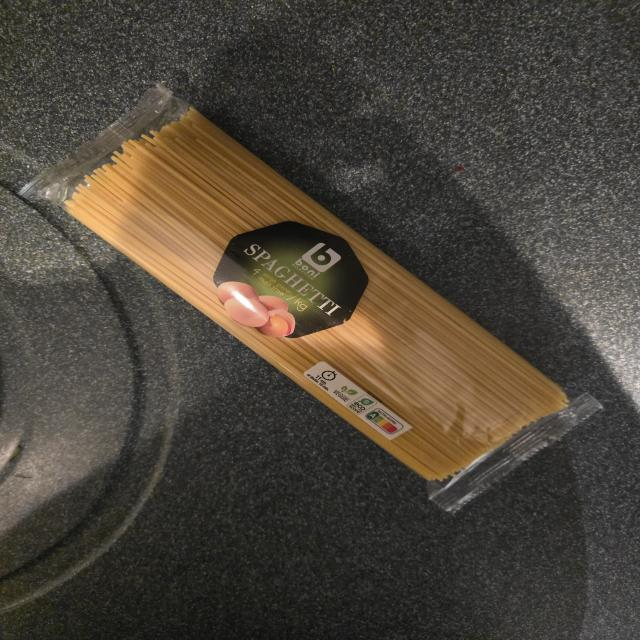Pasta: (23, 108, 569, 480)
